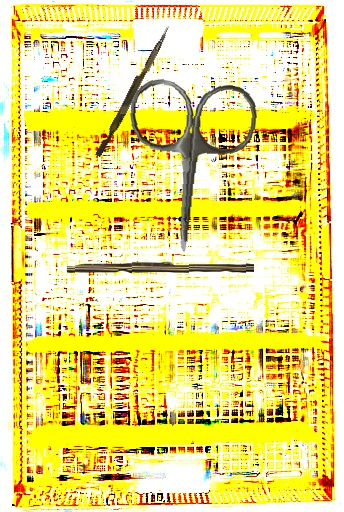Iris Scissors: (118, 76, 260, 258)
Pusher: (94, 22, 172, 160)
Scalpel Handle: (66, 258, 255, 276)
